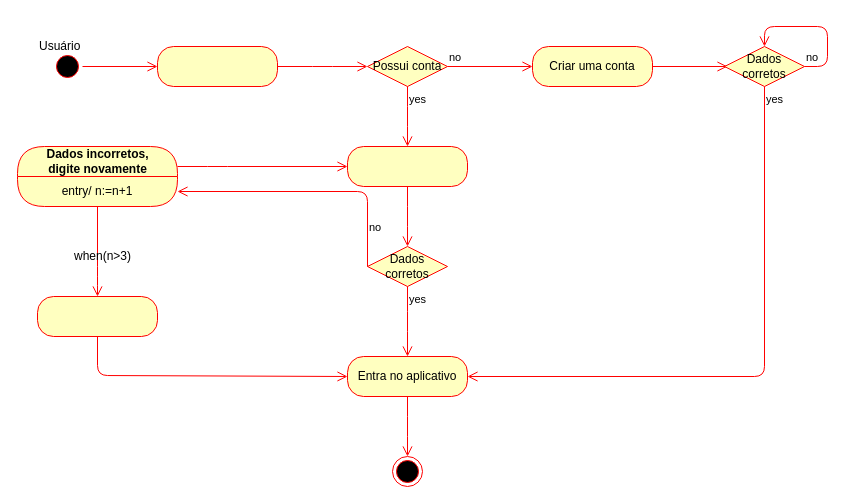
This 855x504 diagram has some shape labels left out. The shapes that lost their labels are listed below. From the top down, each one's centre as x and y in pixels, then its label:
At (217,66): "Aguardando dados de login".
At (407,166): "Entrar com login e senha".
At (97,316): "Criar nova senha".
